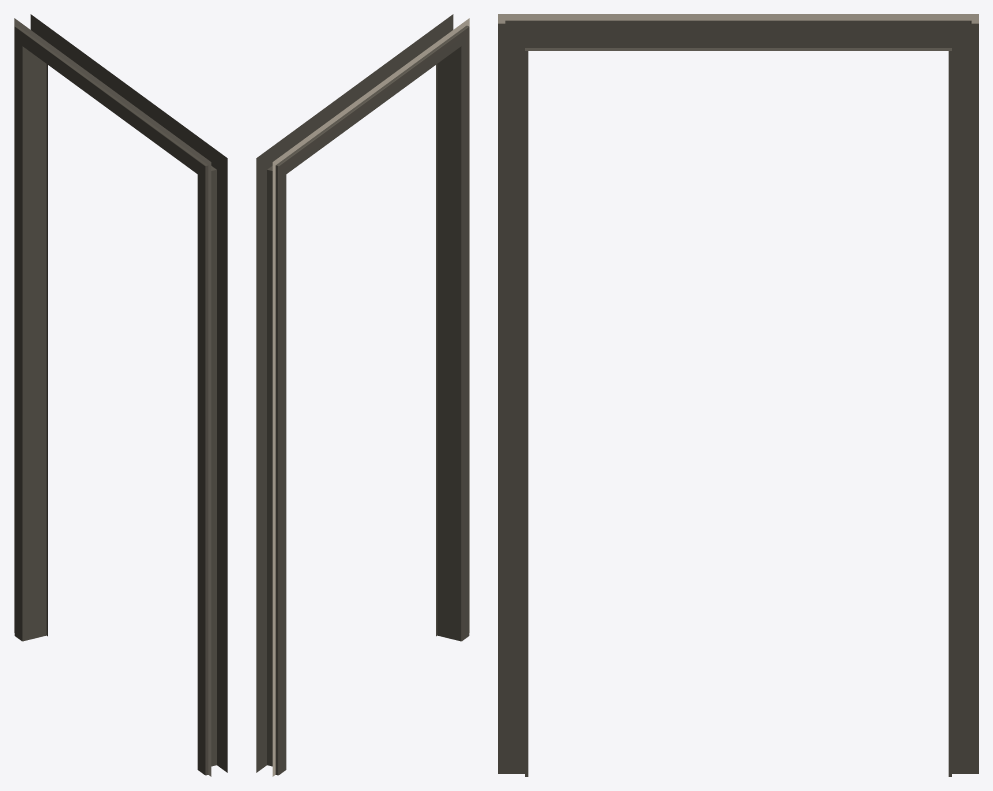
Rendered from Kit_DoorFrame_StairSouth.fbx.
3 views of the same model, side by side, from view 1: azimuth 30°, elevation 25°; view 2: azimuth 150°, elevation 25°; view 3: azimuth 270°, elevation 25° (orthographic). The views are drawn at different scales.
Visible parts, largest first — view 1: Kit_DoorFrame_StairSouth_LOD0; view 2: Kit_DoorFrame_StairSouth_LOD0; view 3: Kit_DoorFrame_StairSouth_LOD0.
Boxes of the visible parts, bbox=[...] form: Kit_DoorFrame_StairSouth_LOD0: bbox=[14, 14, 227, 776]; Kit_DoorFrame_StairSouth_LOD0: bbox=[256, 14, 469, 776]; Kit_DoorFrame_StairSouth_LOD0: bbox=[498, 14, 978, 776].
Size of what is drawn, in the model's own units: 0.09 by 2.17 by 1.26.
